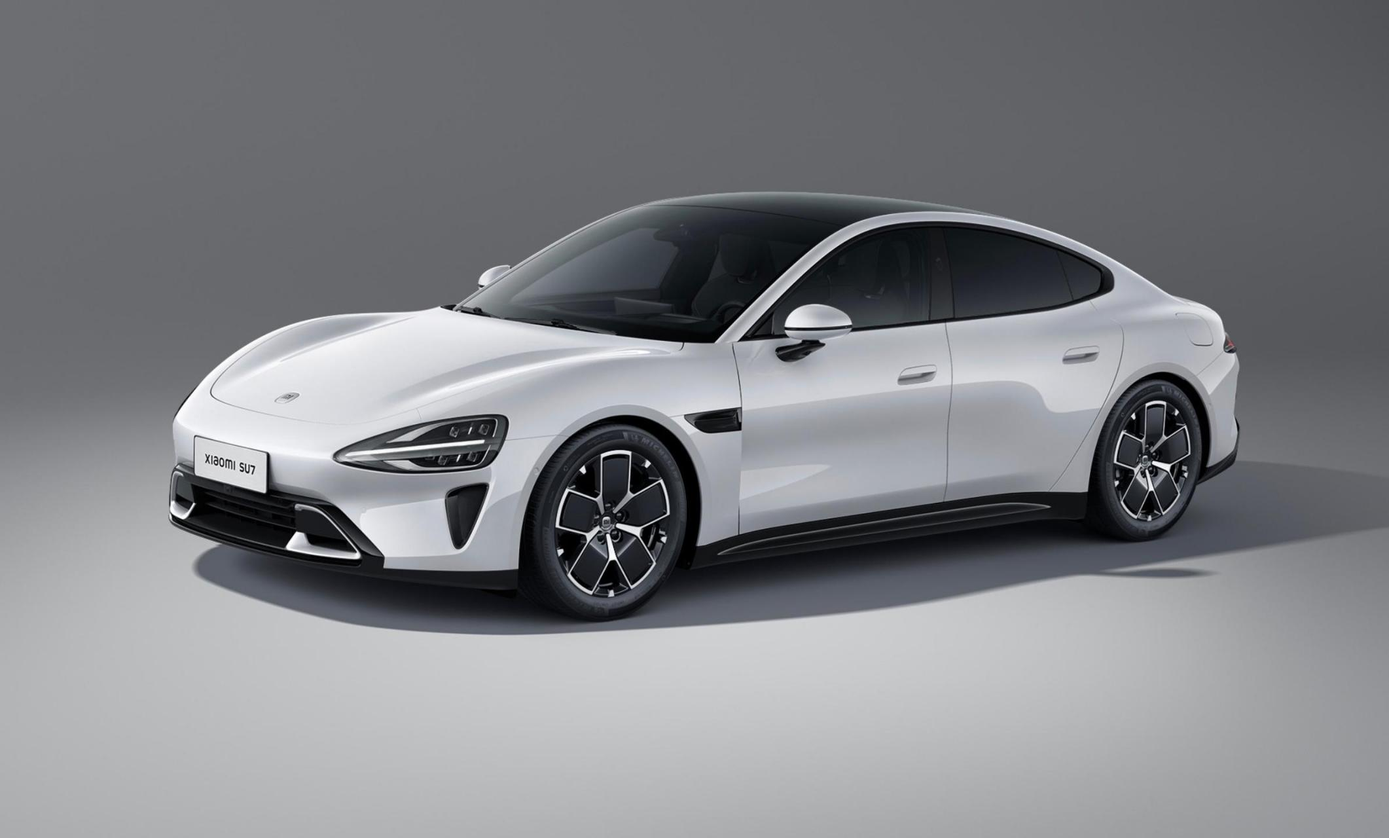su7: (177, 179, 1242, 616)
